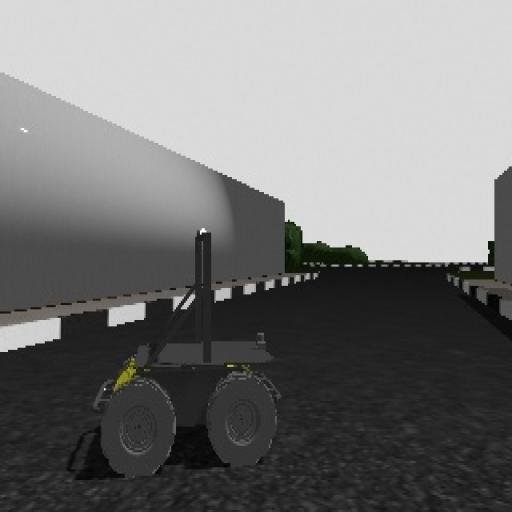huskya200: (61, 222, 314, 506)
